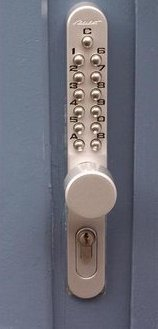digicode: (68, 35, 106, 158)
